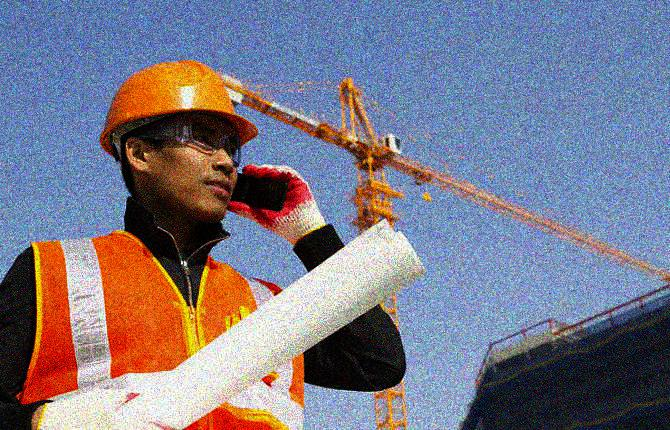helmet: (99, 60, 259, 224)
